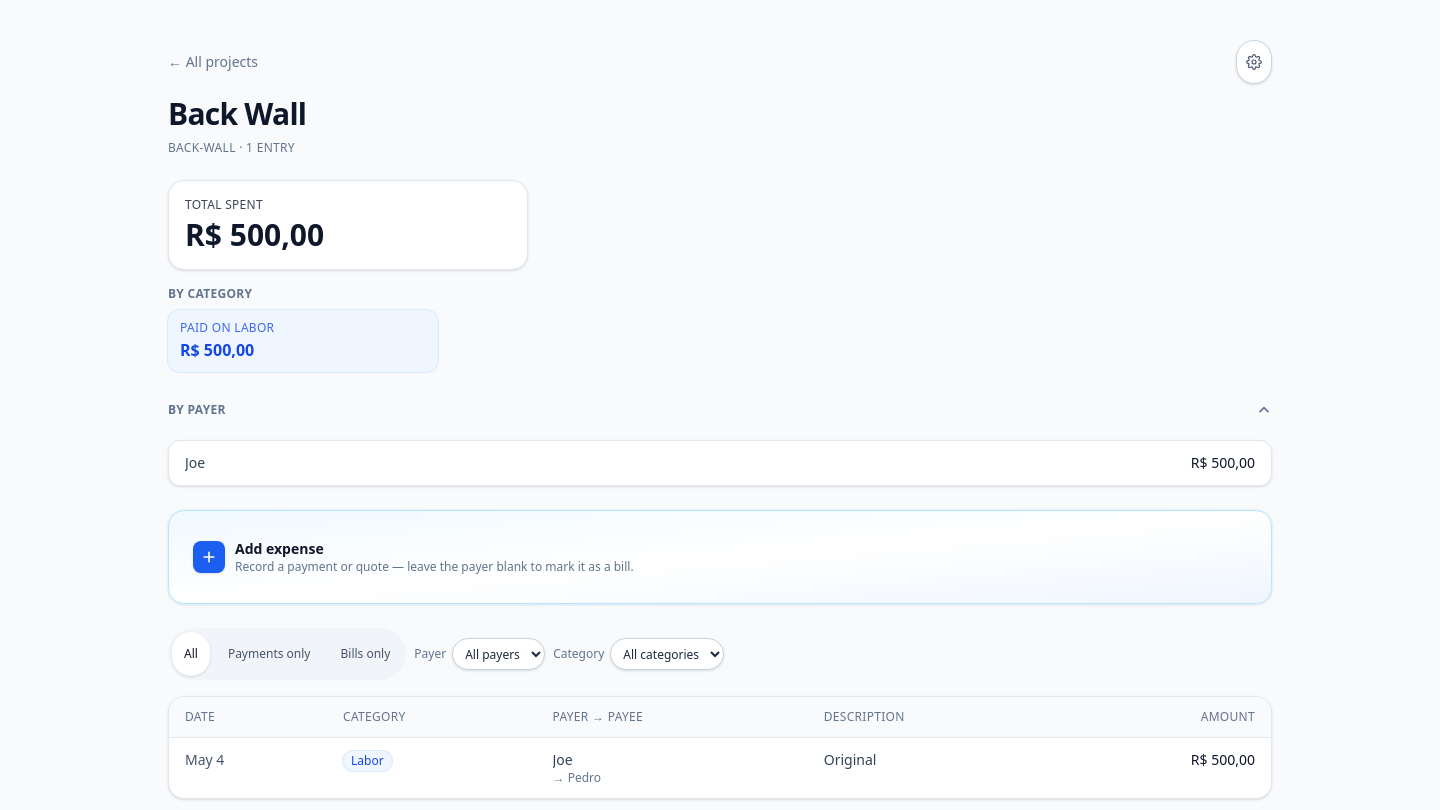
Test case: save recovery › closes the expense modal on conflict and exposes translated recovery (en)
Click the text "→ Pedro": click(577, 778) left=552, top=769, right=601, bottom=786
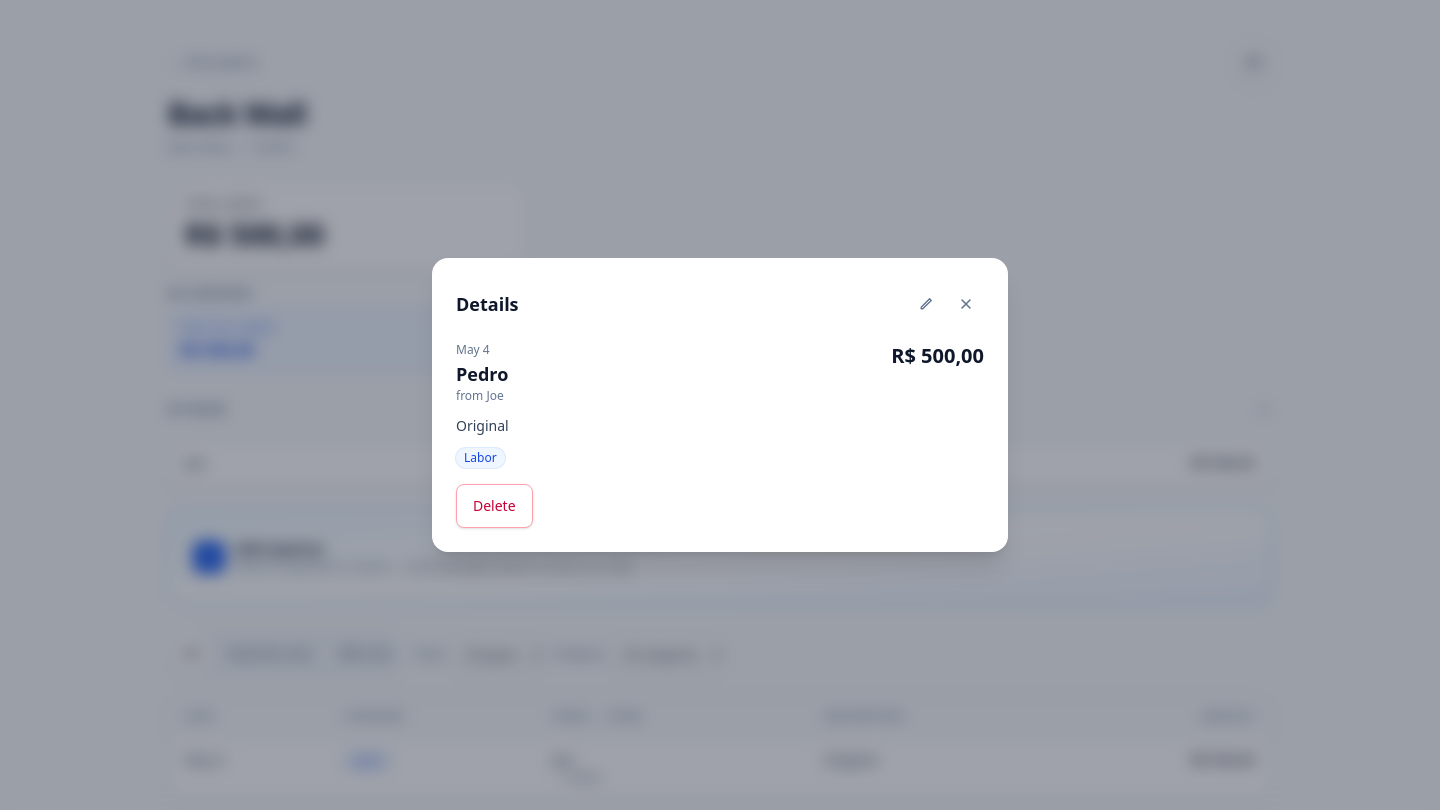
Click the button named "Edit": click(926, 304) left=908, top=282, right=944, bottom=326
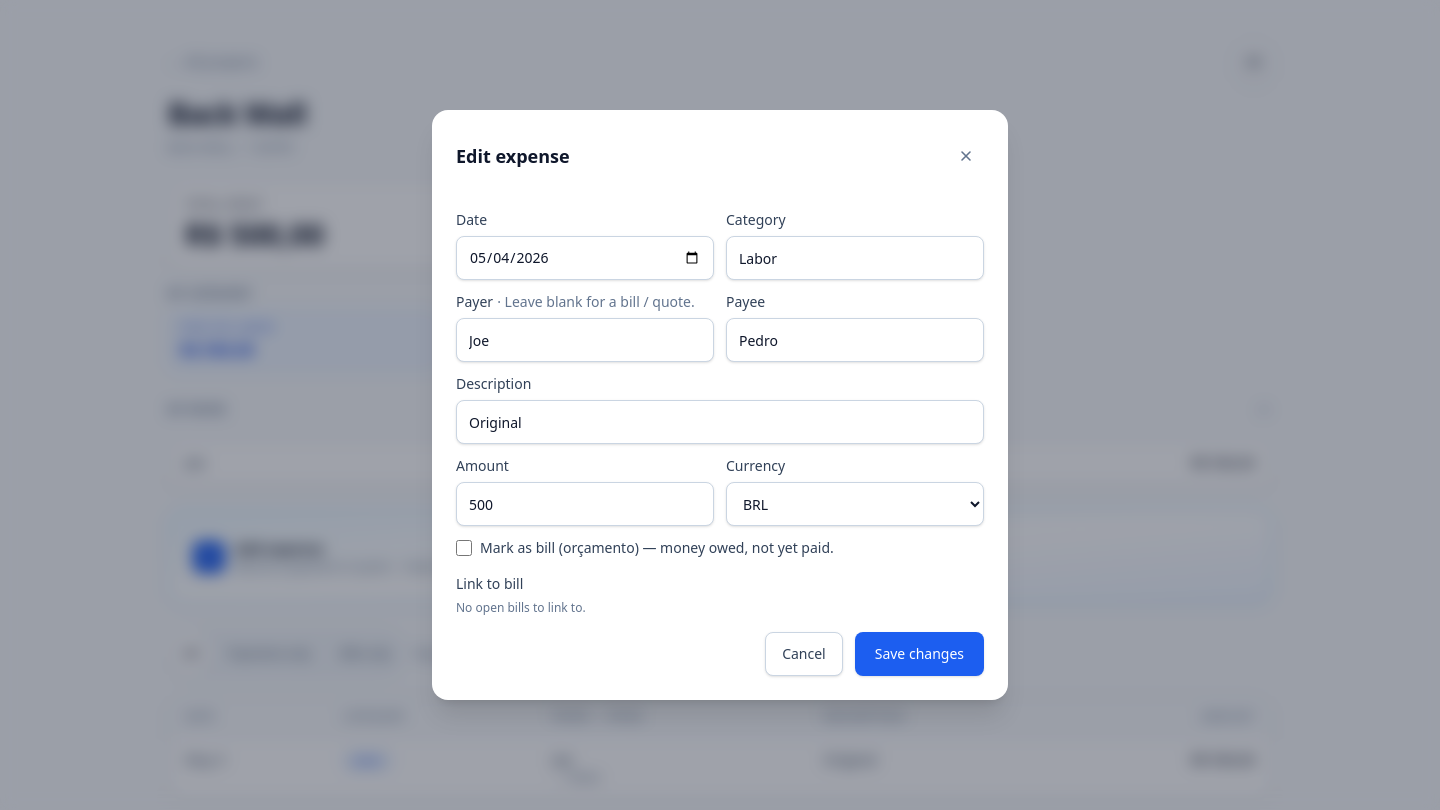
Replace the text in the number field labelled "Amount" with "750": (585, 504) left=456, top=482, right=714, bottom=526
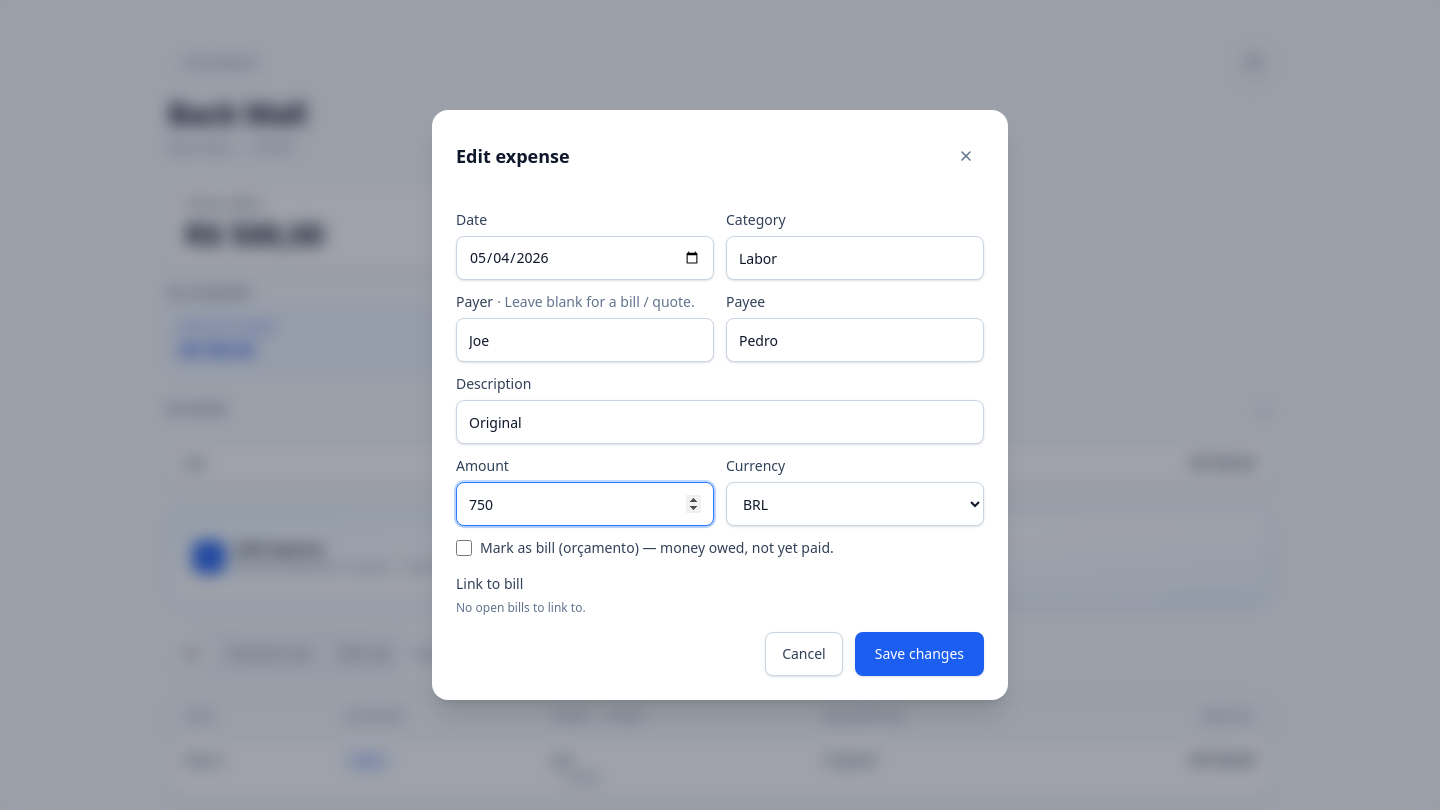
Click the button "Save changes": click(919, 654) left=855, top=632, right=984, bottom=676
(page scrolled)
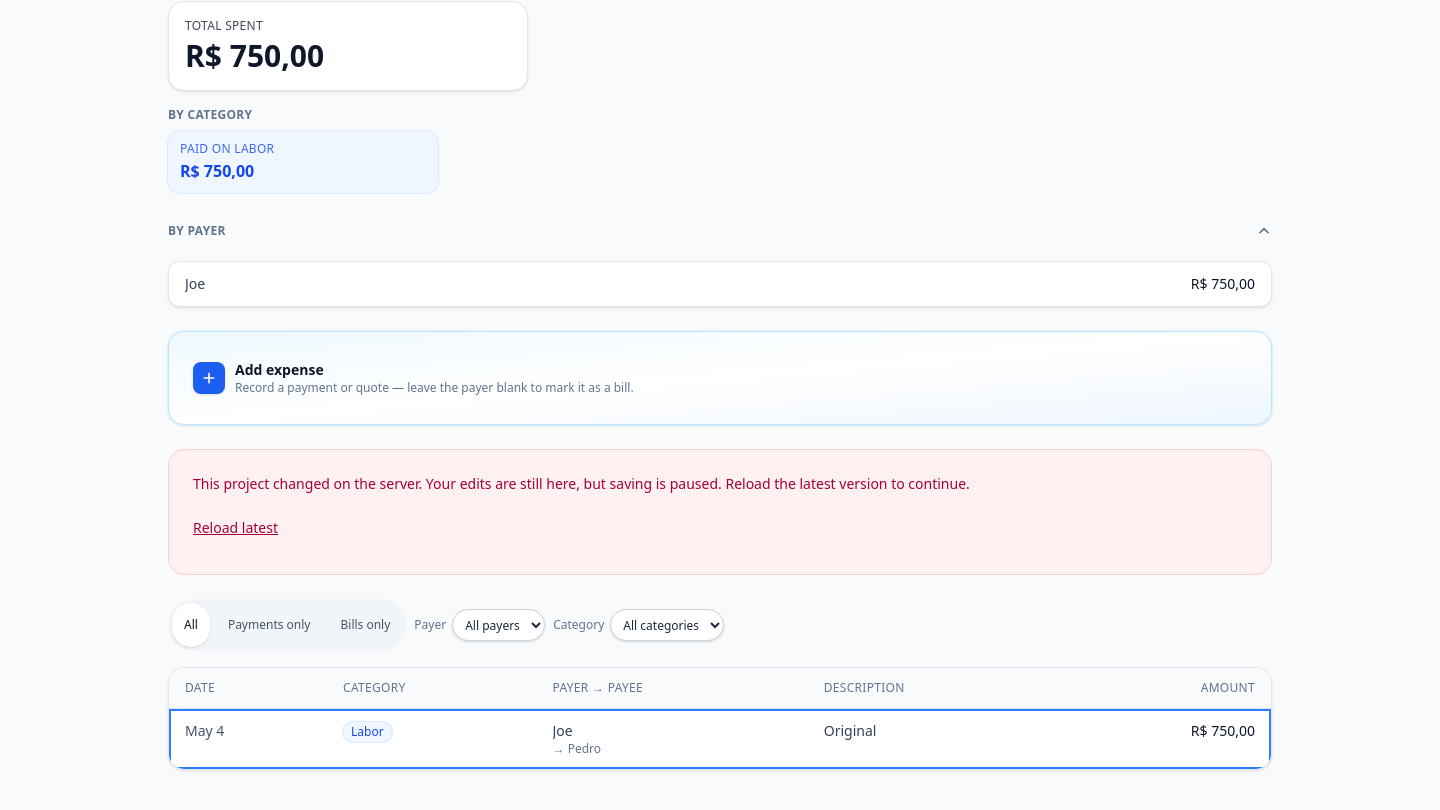
Expected: the dialog is gone
Expected: the message shows "saving is paused", left=193, top=474, right=970, bottom=493
Expected: the button "Reload latest" is shown, left=193, top=506, right=278, bottom=550
